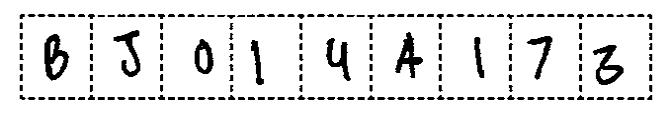0: (186, 35, 221, 82)
1: (460, 29, 497, 82), (240, 35, 272, 88)
3: (588, 38, 627, 90)
4: (312, 32, 358, 86)
7: (518, 32, 558, 88)
A: (391, 27, 427, 84)
B: (36, 28, 77, 90)
J: (107, 27, 150, 84)
